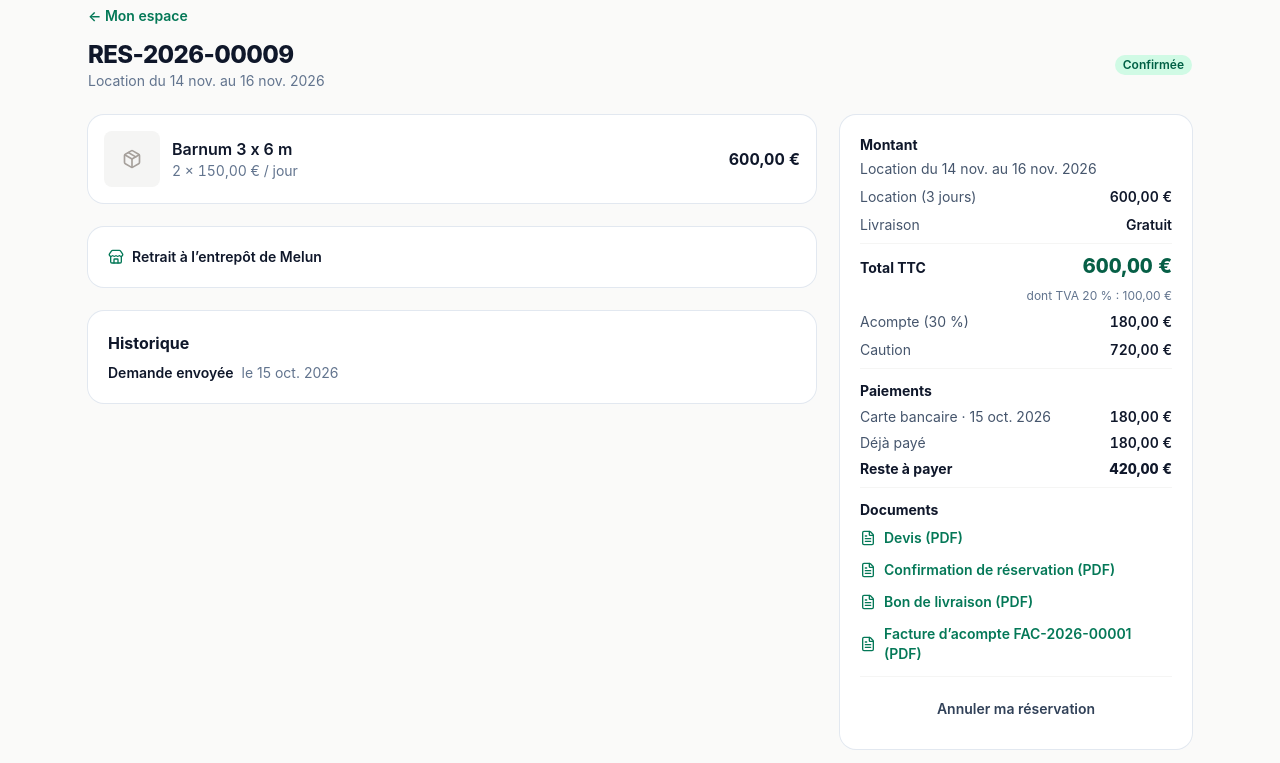
it: Espace client : devis, paiement, documents, annulation (US-10, US-11, US-13) › avant d’annuler une réservation confirmée, le client voit ce qu’il perd
The image size is (1280, 763).
Click the button "Annuler ma réservation".
click(1016, 709)  # box top-left (860, 689), bottom-right (1172, 729)
(page scrolled)
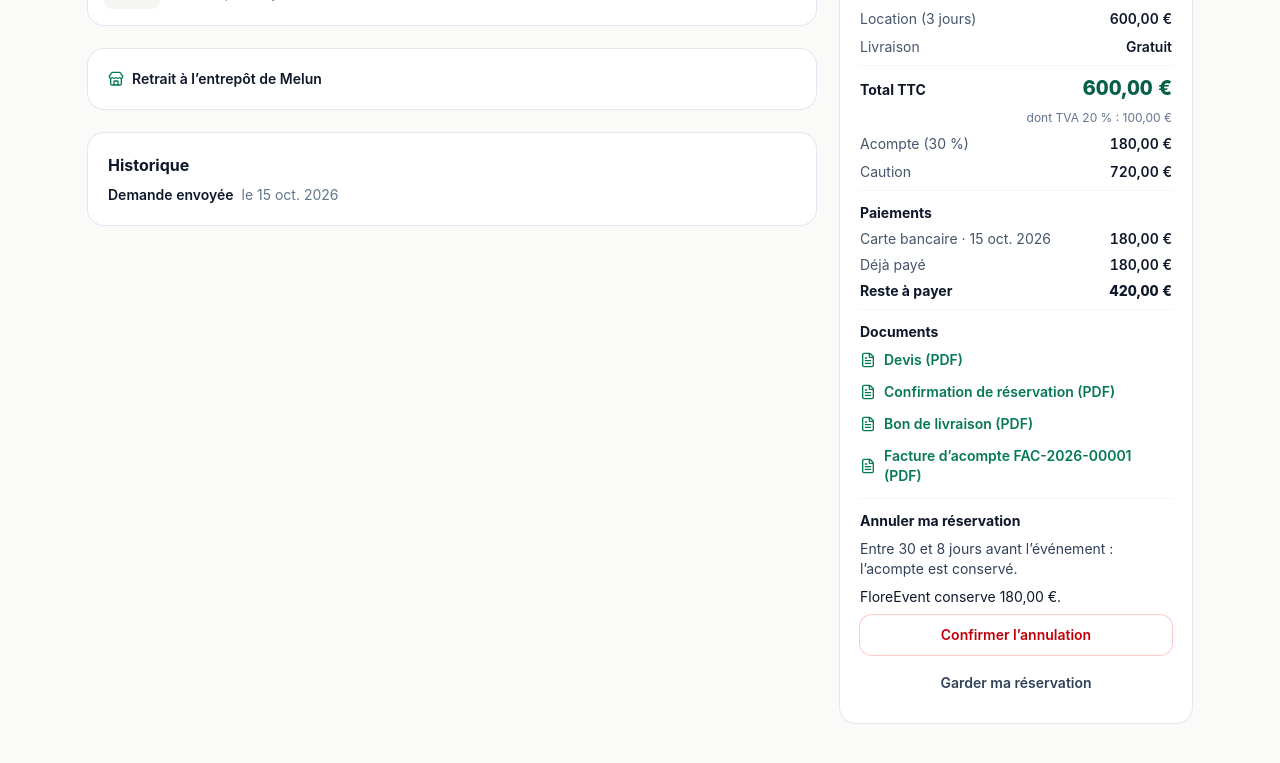
expect the text "Entre 30 et 8 jours avant l’événement : l’acompte est conservé." is shown: met, box top-left (860, 540), bottom-right (1113, 577)
expect the text "FloreEvent conserve 180,00 €." is shown: met, box top-left (860, 588), bottom-right (1061, 605)
Click the button "Confirmer l’annulation".
click(1016, 635)  # box top-left (860, 615), bottom-right (1172, 655)
(page scrolled)
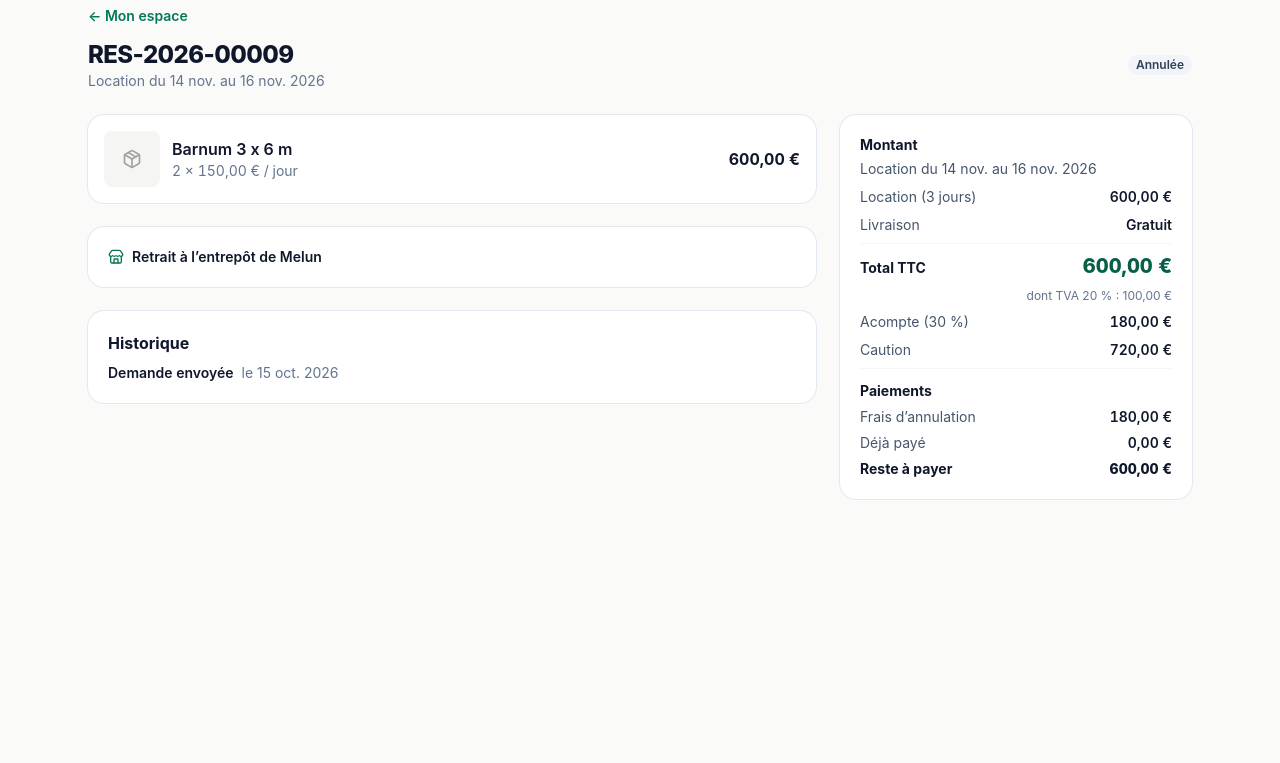
expect the text "Annulée" is shown: met, box top-left (1128, 55), bottom-right (1192, 75)
